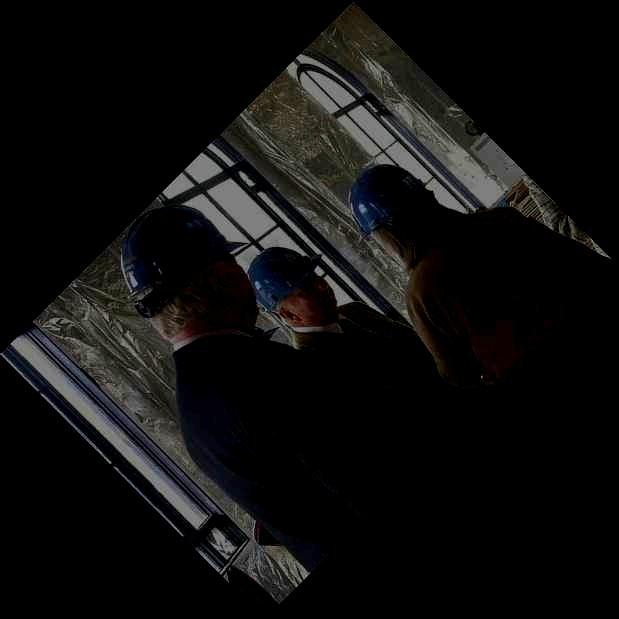helmet: (119, 203, 260, 344), (348, 163, 443, 271), (247, 246, 338, 325)
